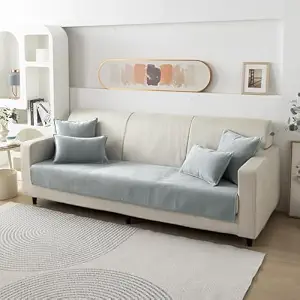3seatersofa: (22, 111, 278, 245)
backrest: (69, 110, 272, 166)
base: (29, 185, 237, 233)
leftarmrest: (238, 147, 278, 238)
leg: (246, 239, 252, 246), (125, 217, 132, 223), (32, 197, 36, 204)
pillow: (181, 130, 260, 185), (55, 118, 107, 162)
rightarmrest: (22, 137, 53, 195)
seat: (31, 160, 242, 222)
